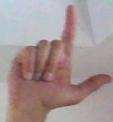L: (4, 2, 111, 116)
